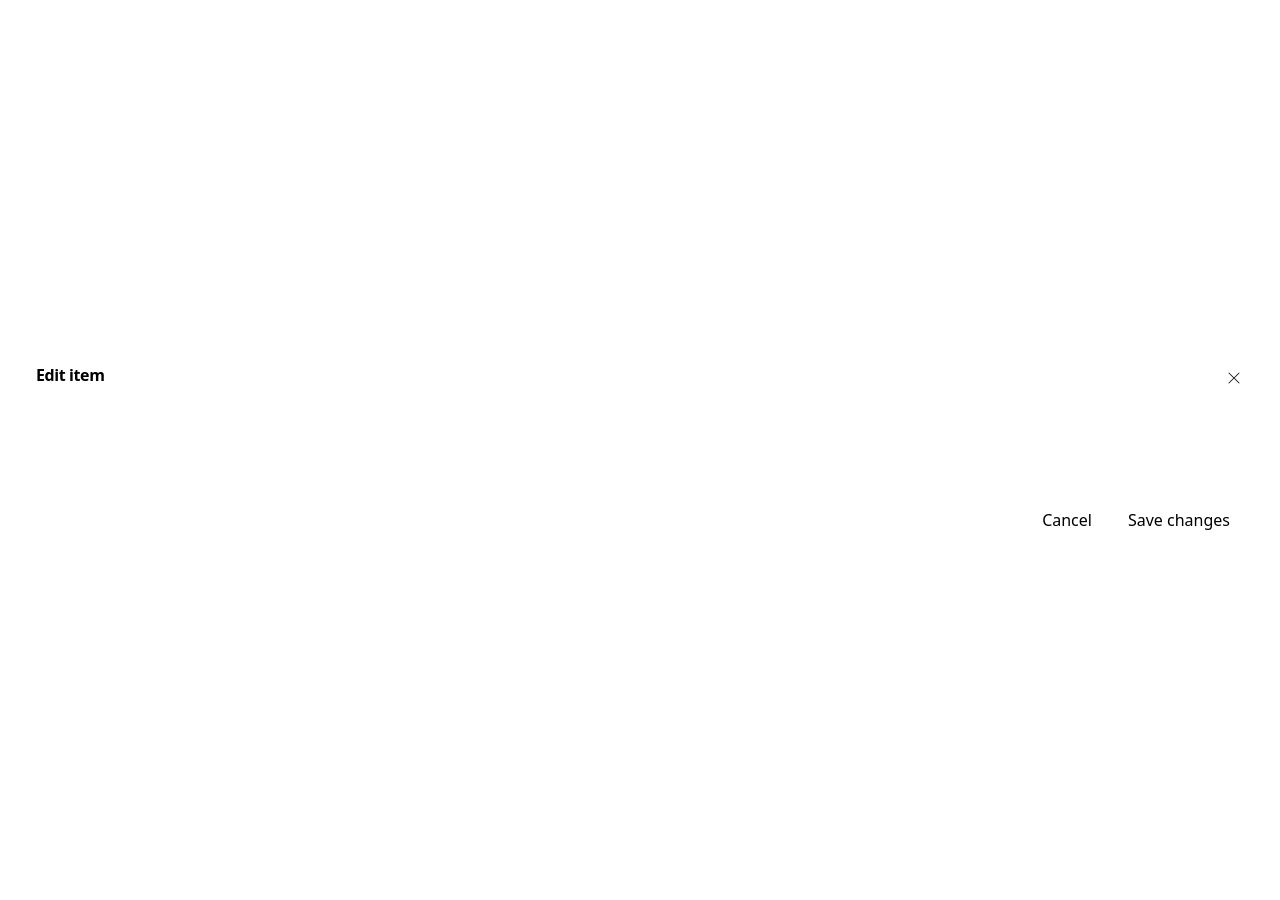
Scenario: FormDialog save failure › brings the failure into view instantly under reduced motion
This screenshot has width=1280, height=900.
Click the button "Save changes" at (1179, 520), box [1114,502,1244,538]
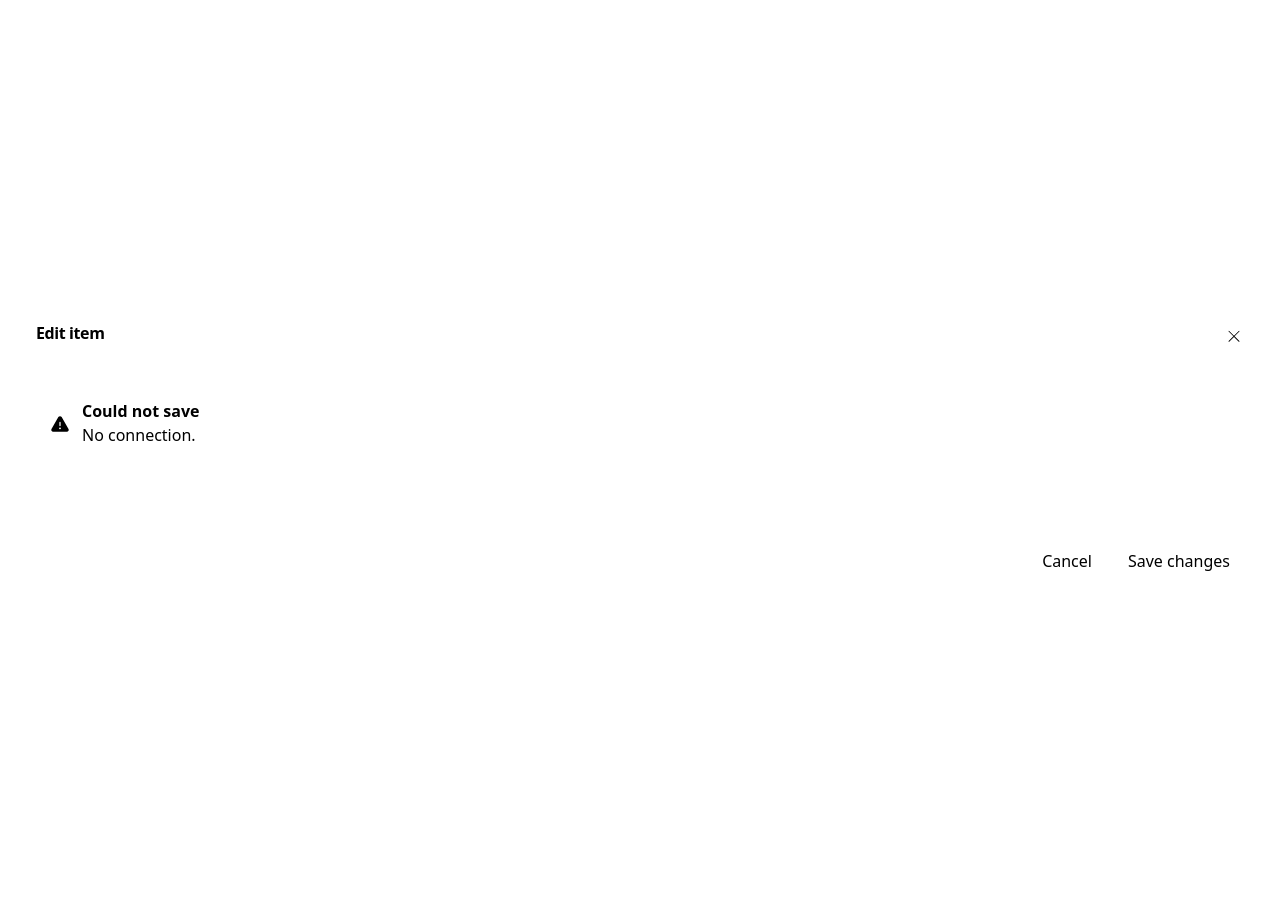
Check: the text "No connection." is shown, box [82,424,196,446]
